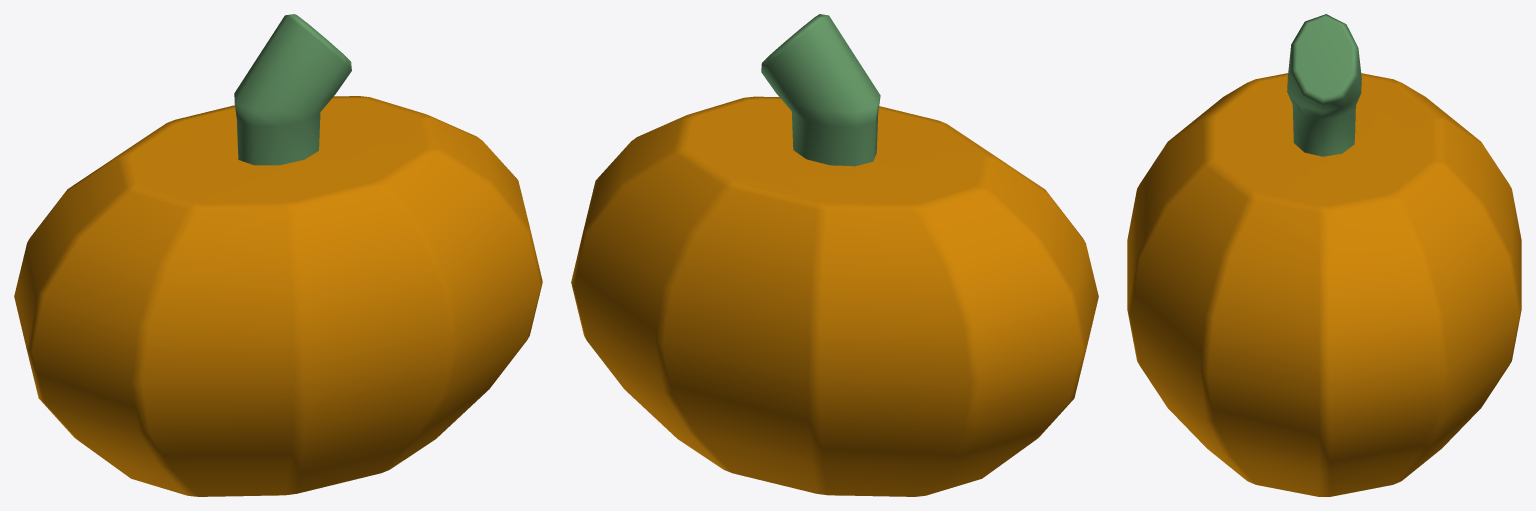
The model's file is Pumpkin.fbx.
3 views of the same model, side by side, from view 1: azimuth 30°, elevation 25°; view 2: azimuth 150°, elevation 25°; view 3: azimuth 270°, elevation 25° (orthographic).
Visible parts, largest first — view 1: Pumpkin3; view 2: Pumpkin3; view 3: Pumpkin3.
Part boxes in pixels (x1,y1,x2,y2): Pumpkin3: [14, 14, 542, 496]; Pumpkin3: [571, 14, 1098, 496]; Pumpkin3: [1127, 14, 1521, 496].
Size of the model in its own units: 0.944 by 0.7671 by 0.6522.
